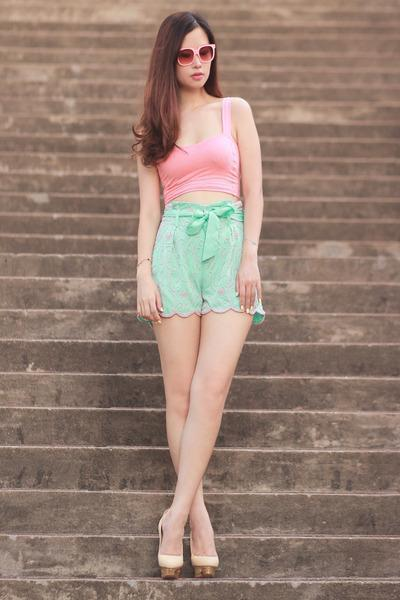shirt: (163, 132, 237, 203)
shoe: (158, 540, 218, 567)
shorts: (156, 201, 244, 323)
sunglass: (177, 47, 210, 72)
